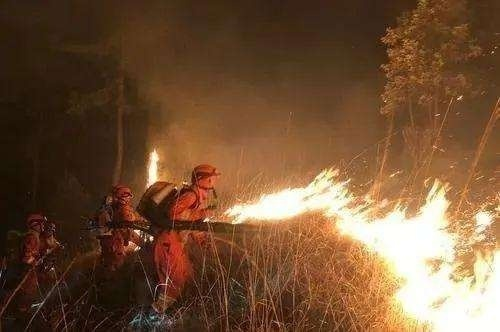fire: (233, 162, 500, 328), (144, 147, 163, 186)
